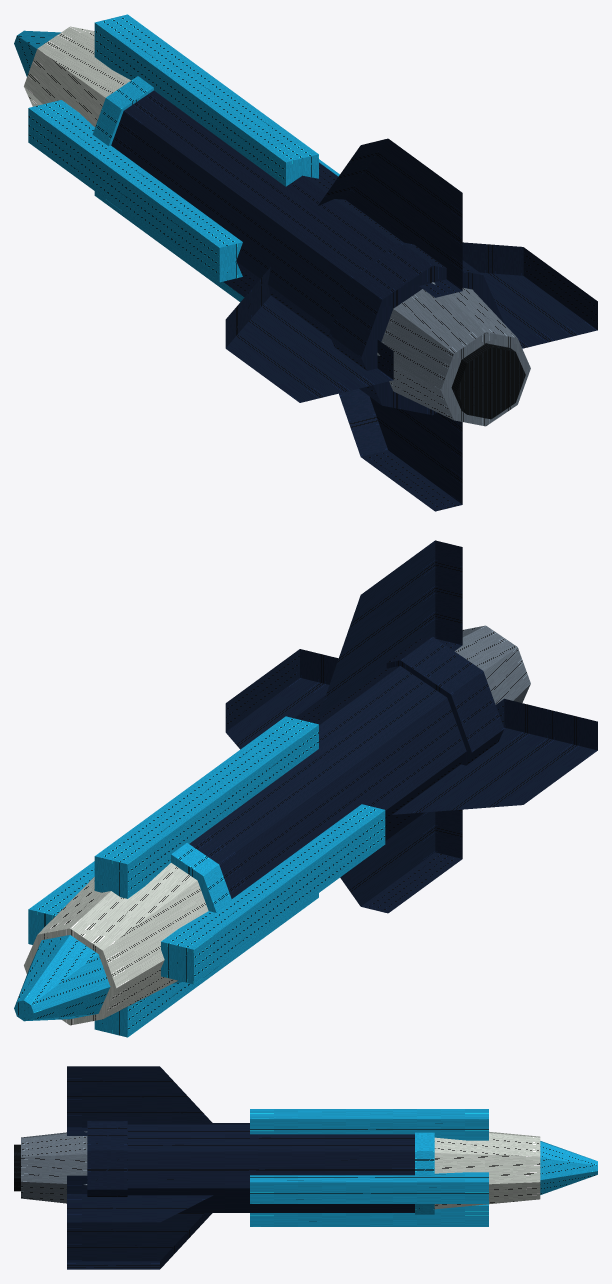
Rendered from shield-swarm.glb.
The picture shows the model from 3 angles, top to bottom: view 1: azimuth 30°, elevation 25°; view 2: azimuth 150°, elevation 25°; view 3: azimuth 270°, elevation 25°; orthographic projection. The views are drawn at different scales.
Visible parts, largest first — view 1: shield-swarm-ordnance; view 2: shield-swarm-ordnance; view 3: shield-swarm-ordnance.
Boxes of the visible parts, x1=… form: shield-swarm-ordnance: x1=14, y1=14, x2=597, y2=511; shield-swarm-ordnance: x1=14, y1=540, x2=597, y2=1037; shield-swarm-ordnance: x1=14, y1=1066, x2=597, y2=1269.
Bounding box in the file's own units: 0.54 × 0.54 × 1.47.
Materials: 1 (1 with a texture image).
